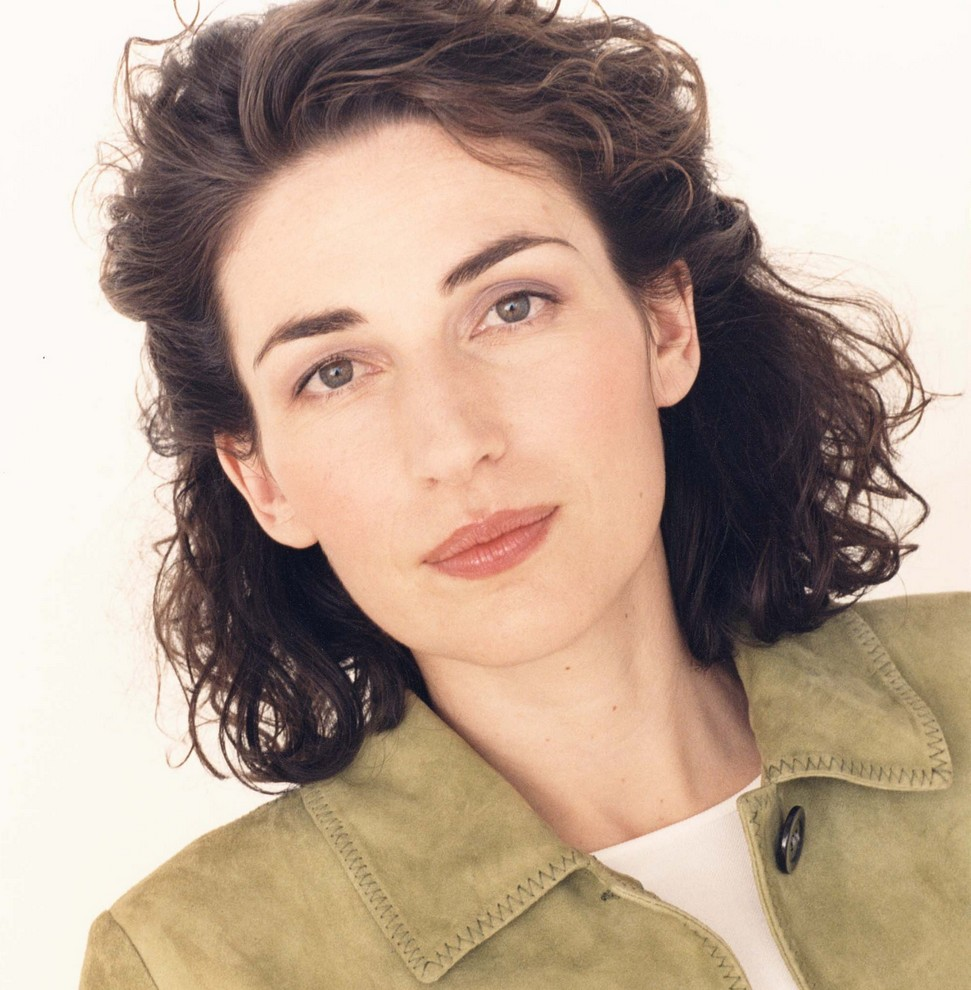without_mask: (247, 234, 632, 611)
